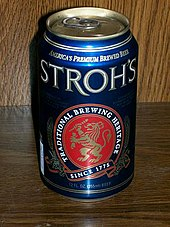beer can: (35, 6, 135, 203)
